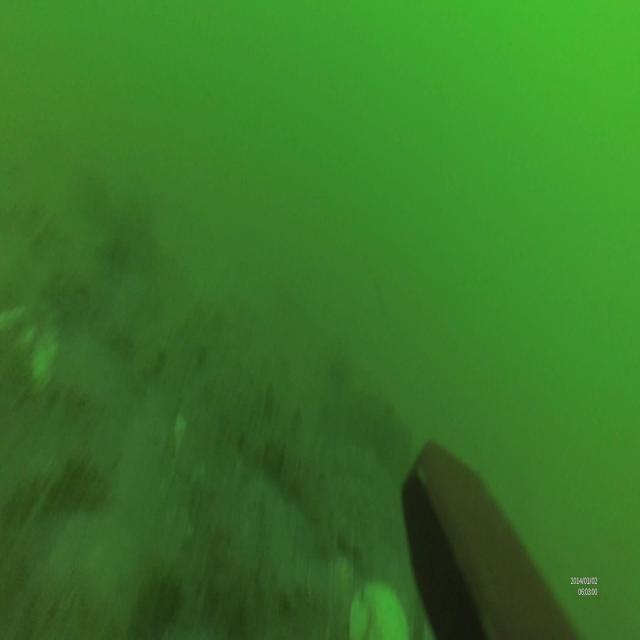scallop: (348, 586, 408, 640), (26, 332, 57, 395)
